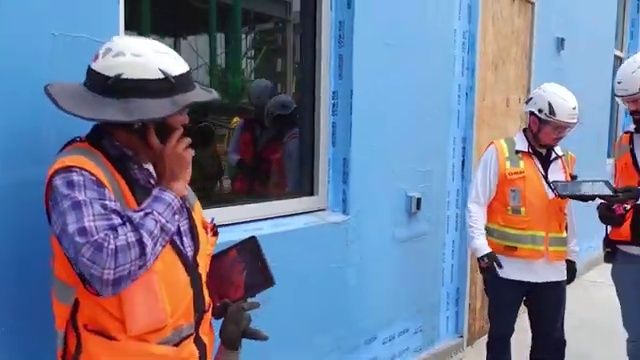helmet: (63, 35, 213, 124), (520, 78, 595, 122)
jacket: (29, 136, 228, 360), (472, 131, 586, 277)
